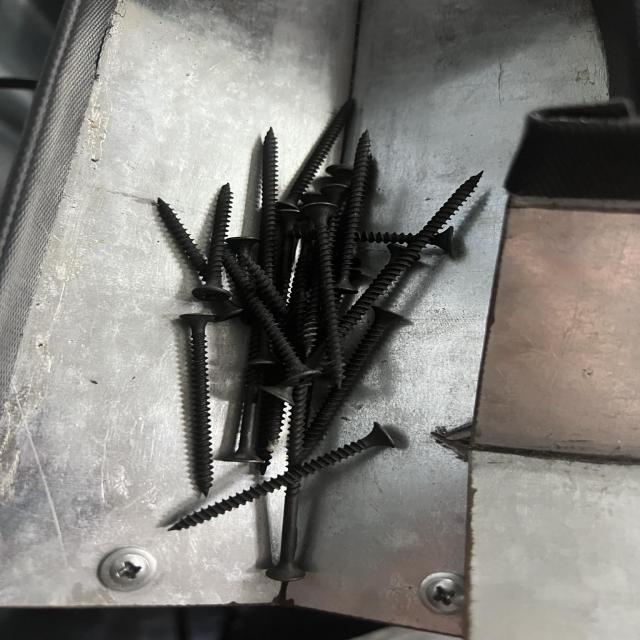screw: (168, 416, 402, 534), (302, 202, 346, 406), (176, 312, 218, 499)
